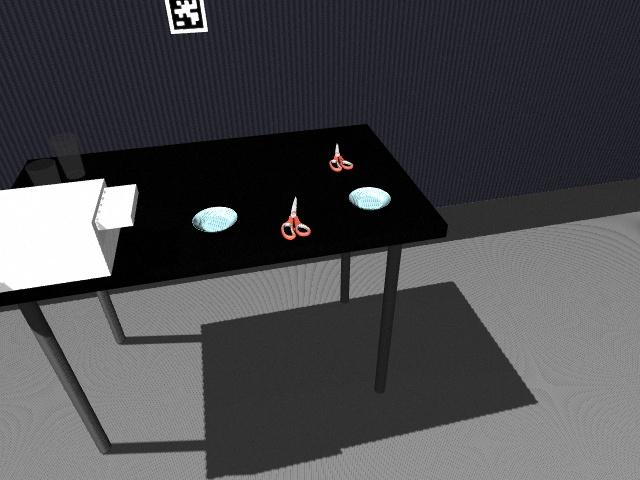cup: (49, 133, 86, 181), (25, 158, 61, 187)
plate: (191, 206, 238, 234), (349, 187, 391, 210)
scissors: (279, 195, 311, 241), (328, 141, 354, 172)
